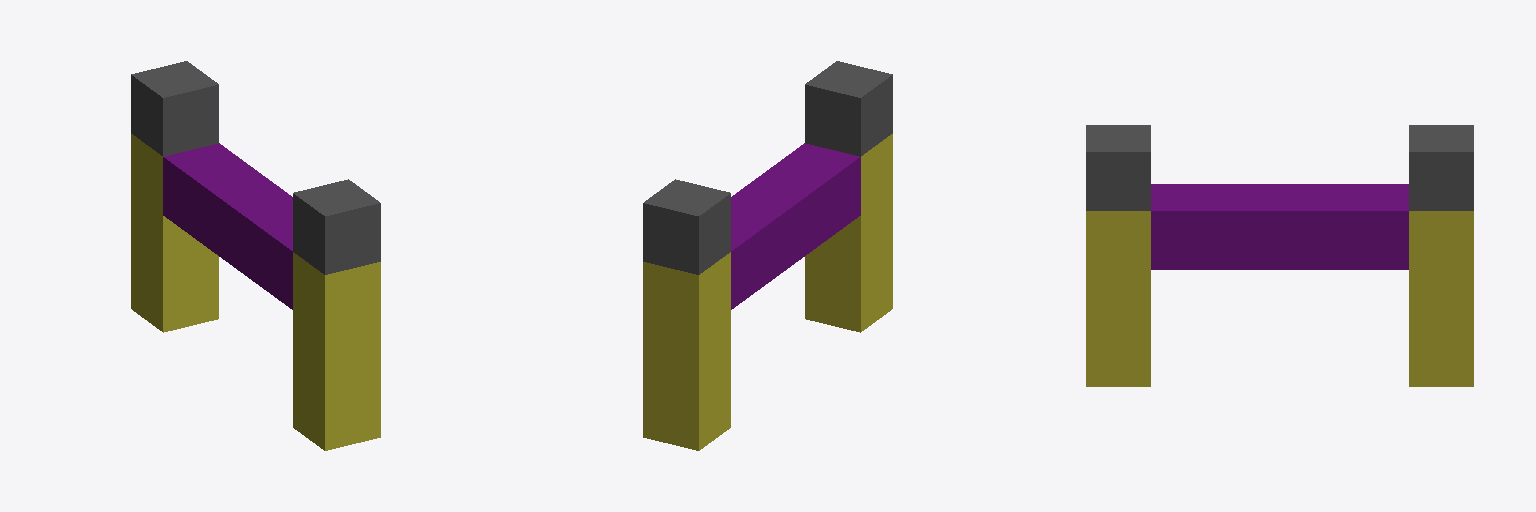
The picture shows the model from 3 angles: view 1: azimuth 30°, elevation 25°; view 2: azimuth 150°, elevation 25°; view 3: azimuth 270°, elevation 25°; orthographic projection.
Parts seen in each view (by area): view 1: object 1; view 2: object 1; view 3: object 1.
Boxes of the visible parts, <box> form: object 1: <box>131,61,380,450</box>; object 1: <box>643,61,892,450</box>; object 1: <box>1086,125,1473,386</box>.
Bounding box in the file's own units: 0.1 × 0.4 × 0.6.
Materials: 1 (1 with a texture image).